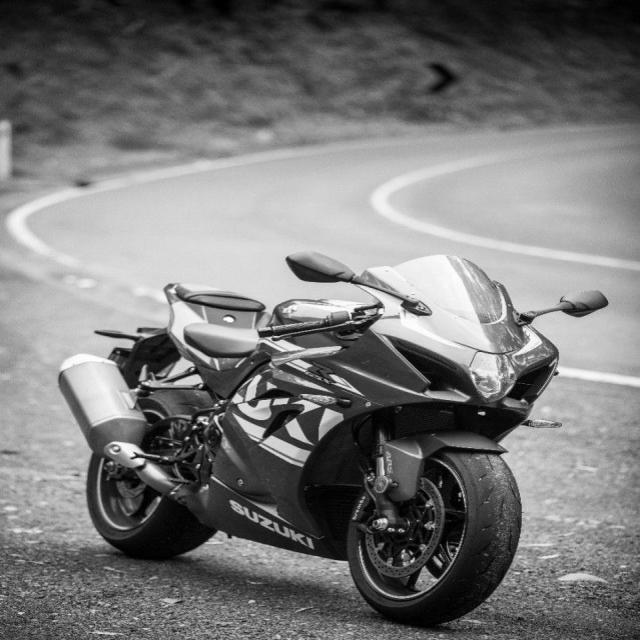bike: (42, 255, 627, 604)
